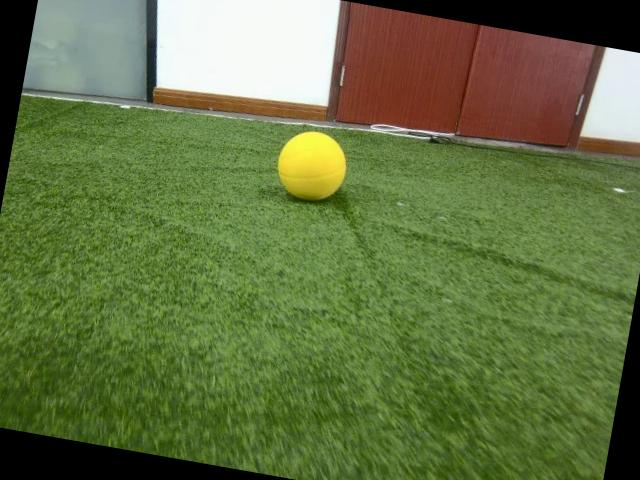yellow_ball: (272, 126, 351, 205)
